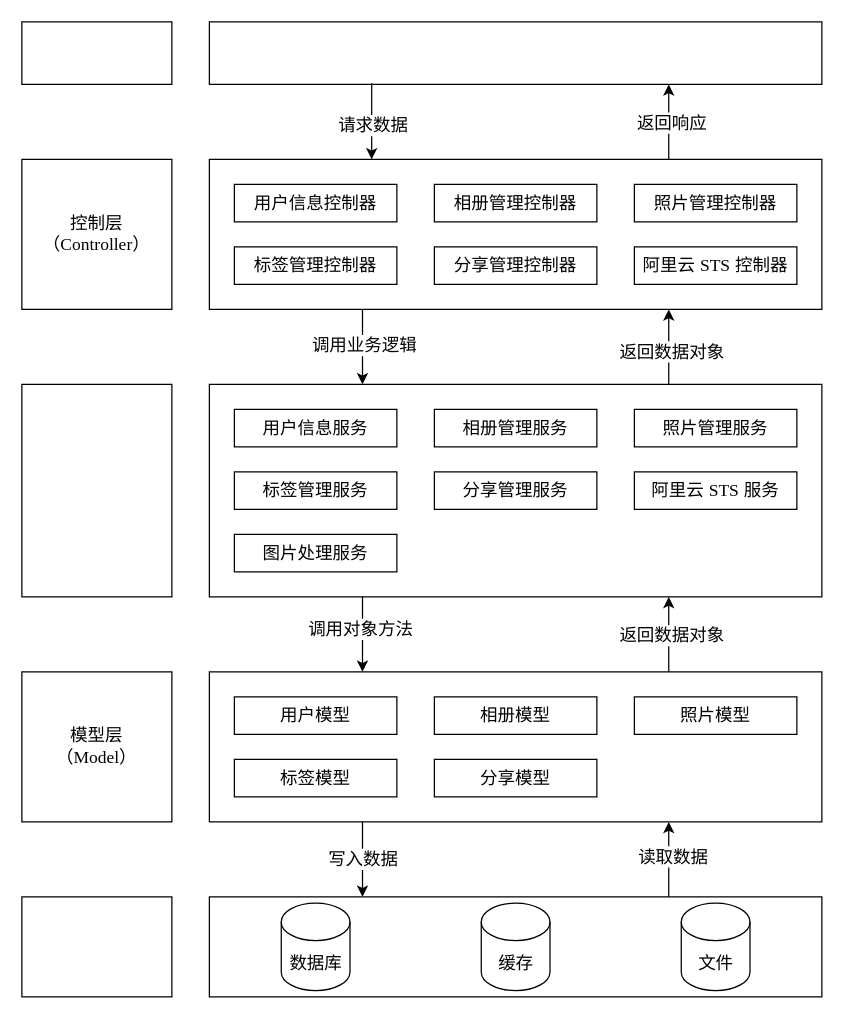
Image size: 844x1019. Some labels were removed from this diagram. Here are the shapes that lost their labels. From the top down, the box of each, then its label:
(21, 21, 172, 84): 视图层 （ View ）
(208, 21, 822, 84): Web 界面
(21, 383, 172, 597): 服务层 （ Service ）
(21, 896, 172, 997): 数据层 （ Data ）
